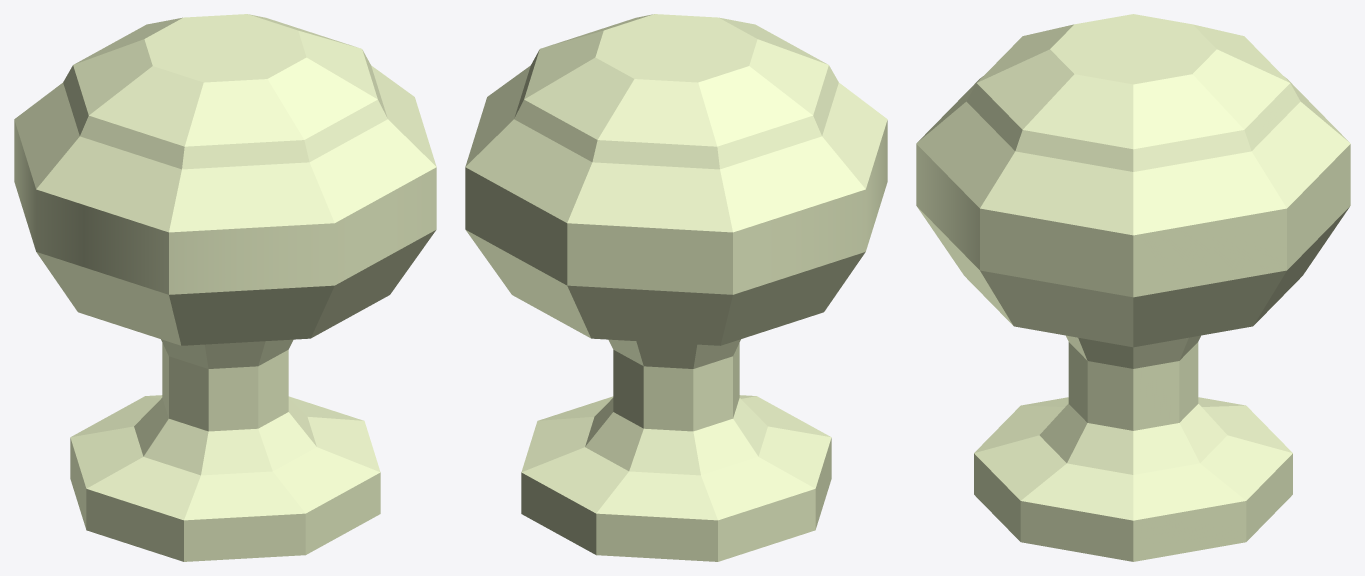
Rendered from Knob.fbx.
The picture shows the model from 3 angles, left to right: view 1: azimuth 30°, elevation 25°; view 2: azimuth 150°, elevation 25°; view 3: azimuth 270°, elevation 25°; orthographic projection.
Parts seen in each view (by area): view 1: Knob; view 2: Knob; view 3: Knob.
Boxes of the visible parts, <box> form: Knob: <box>14,14,436,561</box>; Knob: <box>465,14,887,561</box>; Knob: <box>916,14,1350,561</box>.
Size of the model in its own units: 0.075 by 0.0849 by 0.075.
